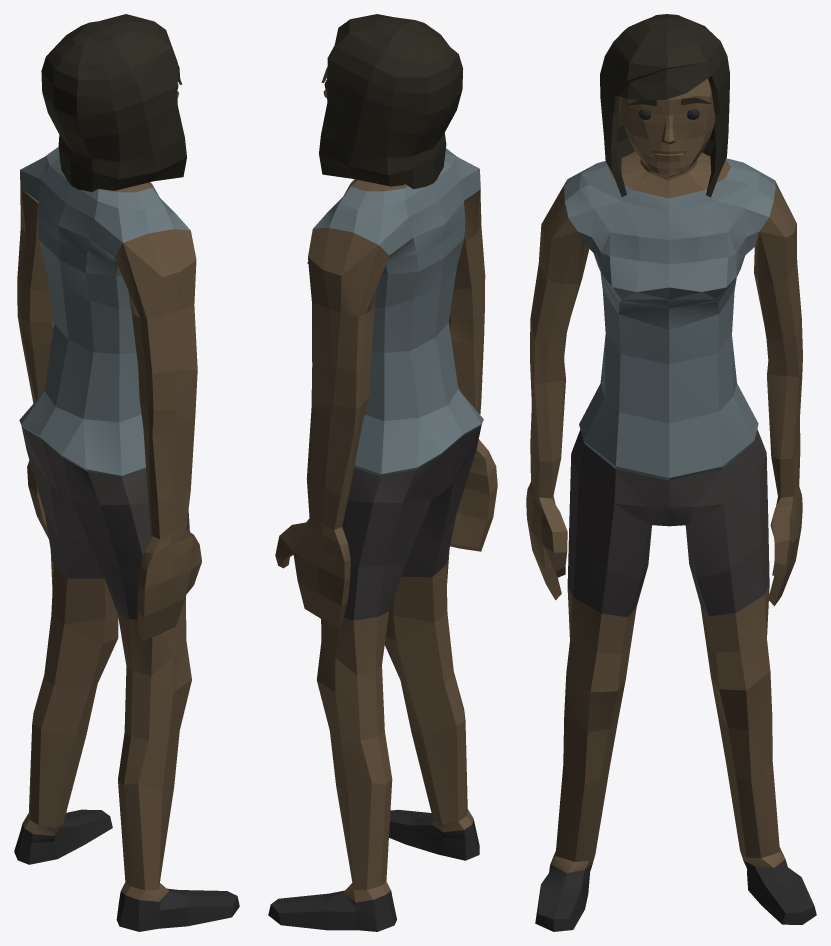
Rendered from persoon_f.glb.
The picture shows the model from 3 angles, left to right: view 1: azimuth 30°, elevation 25°; view 2: azimuth 150°, elevation 25°; view 3: azimuth 270°, elevation 25°; orthographic projection.
Size of the model in its own units: 0.2871 by 1.64 by 0.4941.
